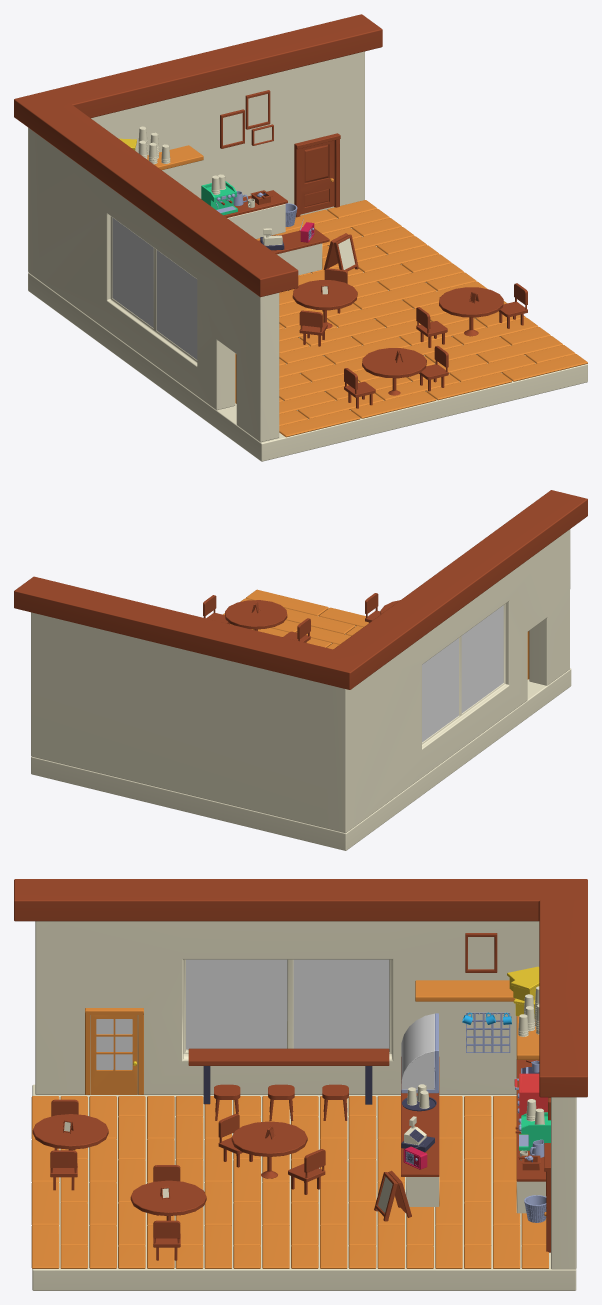
Rendered from SM_Cafe_Scene_v02.fbx.
3 renders of one model, top to bottom at view 1: azimuth 30°, elevation 25°; view 2: azimuth 150°, elevation 25°; view 3: azimuth 270°, elevation 25°, orthographic. The views are drawn at different scales.
Visible parts, largest first — view 1: SM_Main_Wall, SM_Wooden_Floor, SM_Wall_Cap, SM_Main_Floor, G_Window_Glass, INT_Bedroom_Door, SM_Barista_Table_001, SM_Round_Table_001, SM_Round_Table, SM_Round_Table_002, SM_Barista_Table, SM_Door_Frame_001.001 (+10 smaller); view 2: SM_Main_Wall, SM_Wall_Cap, SM_Main_Floor, G_Window_Glass, SM_Wooden_Floor, SM_Round_Table; view 3: SM_Wooden_Floor, SM_Main_Wall, SM_Wall_Cap, G_Window_Glass, SM_Main_Floor, SM_Long_Table, SM_Barista_Table, SM_Shelf, INT_Main_Door, SM_Round_Table_002, G_Cake_Display_Glass, SM_Round_Table (+20 smaller).
Part boxes in pixels (box(x1,y1,x2,y2)): SM_Main_Wall: box(28, 51, 364, 442); SM_Wooden_Floor: box(256, 200, 587, 437); SM_Wall_Cap: box(14, 14, 382, 297); SM_Main_Floor: box(28, 218, 587, 461); G_Window_Glass: box(112, 218, 197, 359); INT_Bedroom_Door: box(300, 140, 334, 214); SM_Barista_Table_001: box(224, 190, 287, 239); SM_Round_Table_001: box(362, 348, 426, 395); SM_Round_Table: box(439, 287, 503, 336); SM_Round_Table_002: box(292, 280, 357, 328); SM_Barista_Table: box(258, 228, 329, 275); SM_Door_Frame_001.001: box(294, 133, 340, 217); SM_Main_Wall: box(31, 529, 570, 833); SM_Wall_Cap: box(14, 490, 587, 689); SM_Main_Floor: box(31, 616, 571, 850); G_Window_Glass: box(422, 605, 503, 742); SM_Wooden_Floor: box(223, 589, 368, 649); SM_Round_Table: box(225, 600, 287, 630); SM_Wooden_Floor: box(31, 1096, 548, 1268); SM_Main_Wall: box(35, 921, 576, 1269); SM_Wall_Cap: box(14, 879, 587, 1097); G_Window_Glass: box(186, 959, 389, 1049); SM_Main_Floor: box(32, 1084, 576, 1290); SM_Long_Table: box(188, 1048, 389, 1104); SM_Barista_Table: box(401, 1057, 439, 1206); SM_Shelf: box(415, 980, 539, 1059); INT_Main_Door: box(91, 1015, 137, 1094); SM_Round_Table_002: box(231, 1121, 307, 1178); G_Cake_Display_Glass: box(401, 1013, 434, 1089); SM_Round_Table: box(130, 1180, 206, 1220).
Bounding box in the file's own units: 22.62 × 11.84 × 27.73.
